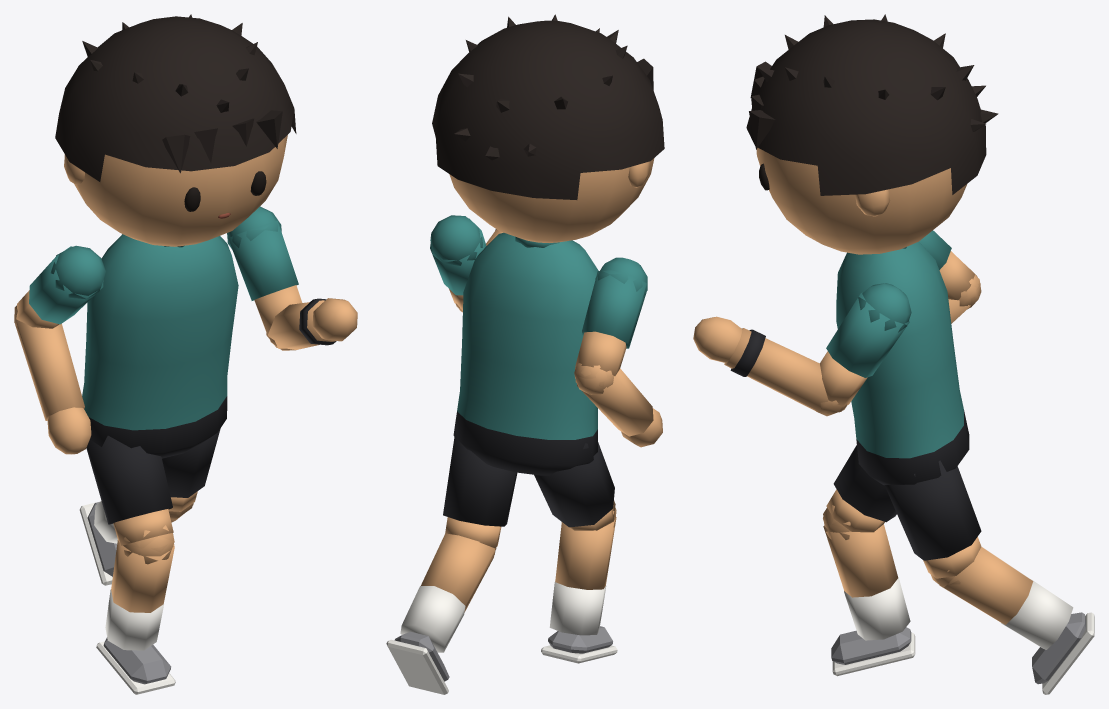
File: era4_jogger.glb
3 views of the same model, side by side, from view 1: azimuth 30°, elevation 25°; view 2: azimuth 150°, elevation 25°; view 3: azimuth 270°, elevation 25° (orthographic). The views are drawn at different scales.
Visible parts, largest first — view 1: head, body, shin_R, leg_R, forearm_R, arm_L, arm_R, forearm_L, leg_L, shin_L; view 2: head, body, shin_L, shin_R, arm_R, leg_L, leg_R, forearm_R, arm_L; view 3: head, body, shin_R, shin_L, leg_L, arm_L, forearm_L, leg_R, arm_R.
Part boxes in pixels (box(x1,y1,x2,y2)): head: box(55, 14, 296, 246); body: box(82, 234, 238, 458); shin_R: box(96, 525, 175, 694); leg_R: box(86, 435, 174, 564); forearm_R: box(15, 309, 91, 454); arm_L: box(227, 206, 302, 350); arm_R: box(14, 245, 105, 328); forearm_L: box(266, 298, 357, 349); leg_L: box(162, 428, 220, 519); shin_L: box(79, 501, 193, 585); head: box(432, 14, 664, 242); body: box(453, 232, 598, 475); shin_L: box(386, 533, 497, 694); shin_R: box(541, 508, 617, 663); arm_R: box(574, 257, 647, 394); leg_L: box(443, 423, 517, 557); leg_R: box(534, 442, 616, 530); forearm_R: box(575, 363, 662, 447); arm_L: box(430, 215, 486, 310); head: box(746, 14, 998, 254); body: box(836, 241, 969, 485); shin_R: box(823, 505, 915, 676); shin_L: box(932, 547, 1094, 694); leg_L: box(884, 460, 981, 587); arm_L: box(814, 283, 911, 416); forearm_L: box(693, 316, 846, 413); leg_R: box(823, 445, 896, 539); arm_R: box(919, 230, 981, 309).
Size of the model in its own units: 0.5575 by 1.46 by 0.8108.
